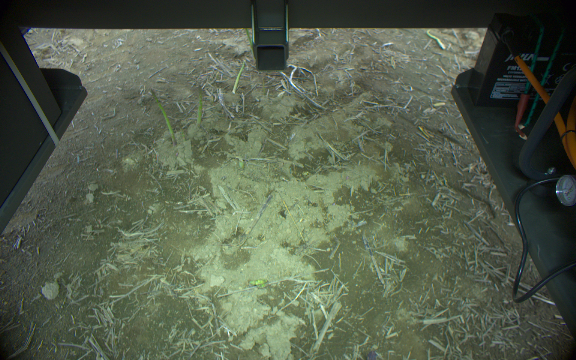aspa: (150, 88, 175, 145), (231, 59, 244, 93), (194, 85, 204, 125), (243, 27, 253, 50)
